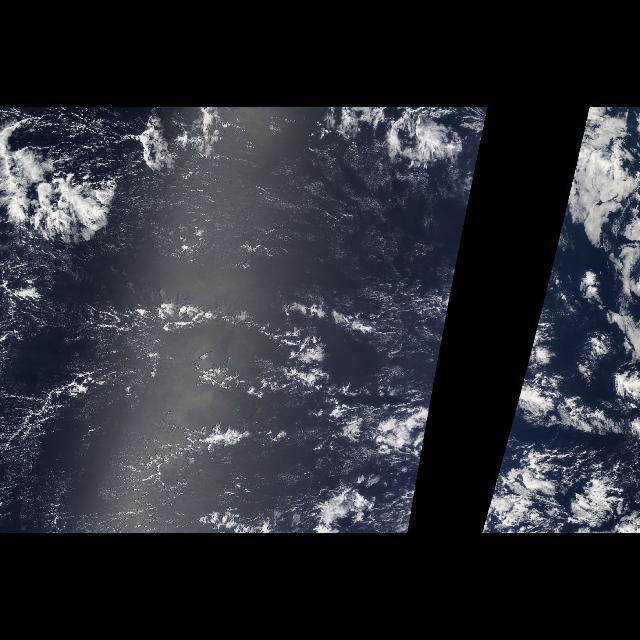Fish: (0, 107, 170, 243)
Sugar: (6, 153, 442, 531)
